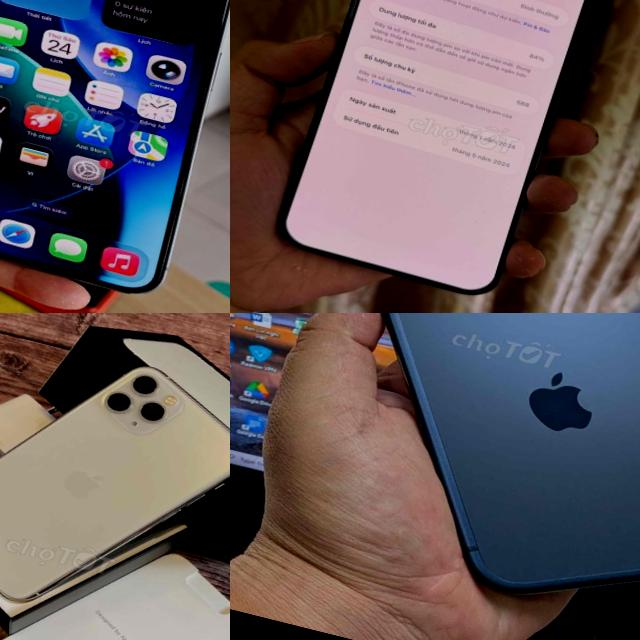gen_11: (0, 313, 230, 640)
gen_14: (0, 0, 230, 308)
gen_15: (269, 0, 616, 313)
gen_17: (243, 313, 640, 640)
